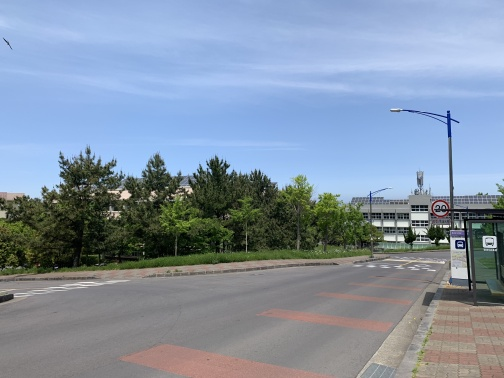College Of Education: (85, 182, 211, 225)
